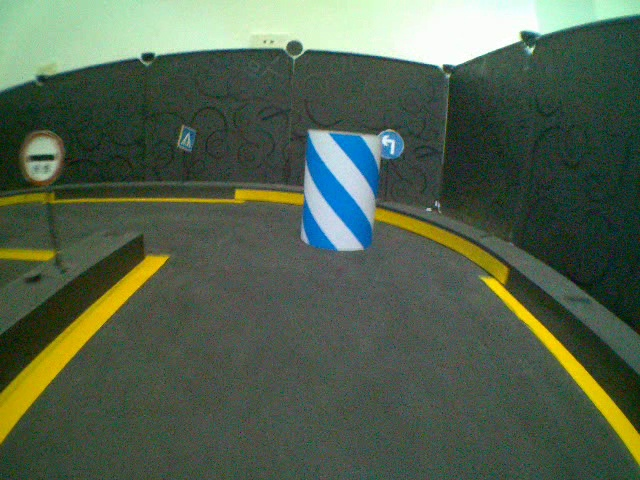bucket: (298, 131, 382, 253)
